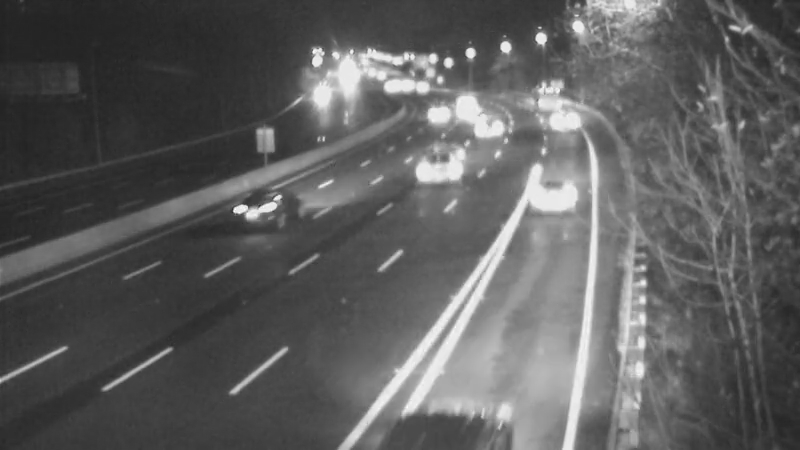vehicle: (395, 129, 475, 209), (514, 155, 594, 235), (206, 175, 286, 255), (360, 63, 410, 113), (518, 67, 568, 117), (439, 73, 489, 123), (438, 89, 488, 139), (408, 85, 458, 135), (451, 87, 501, 137), (538, 95, 588, 145), (467, 104, 517, 154), (294, 74, 344, 124)
